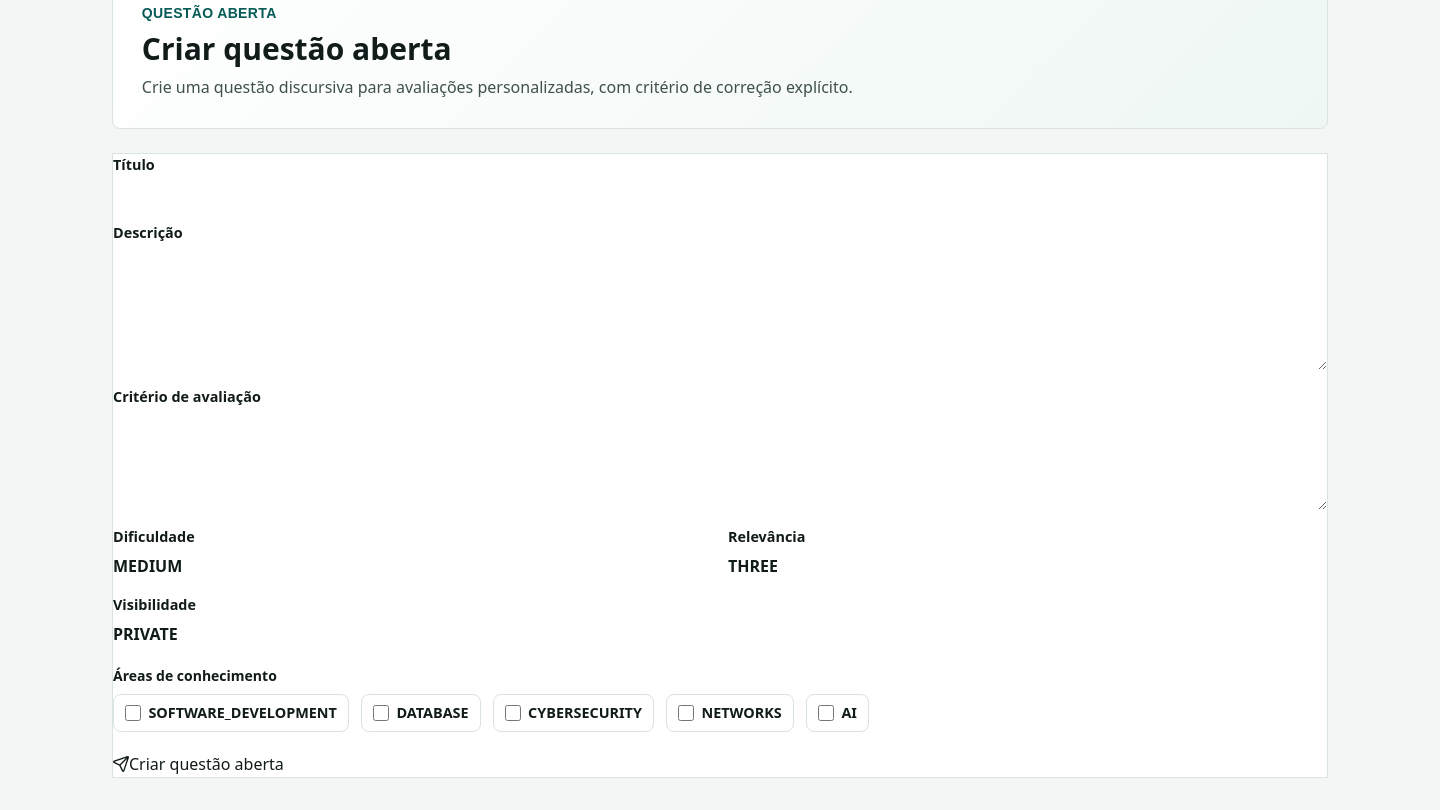
RecruiterOpenQuestionCreateView › validates required open question fields
(page scrolled)
Click the button with test id "create-open-question".
click(198, 764)  # box x1=113 y1=752 x2=284 y2=776
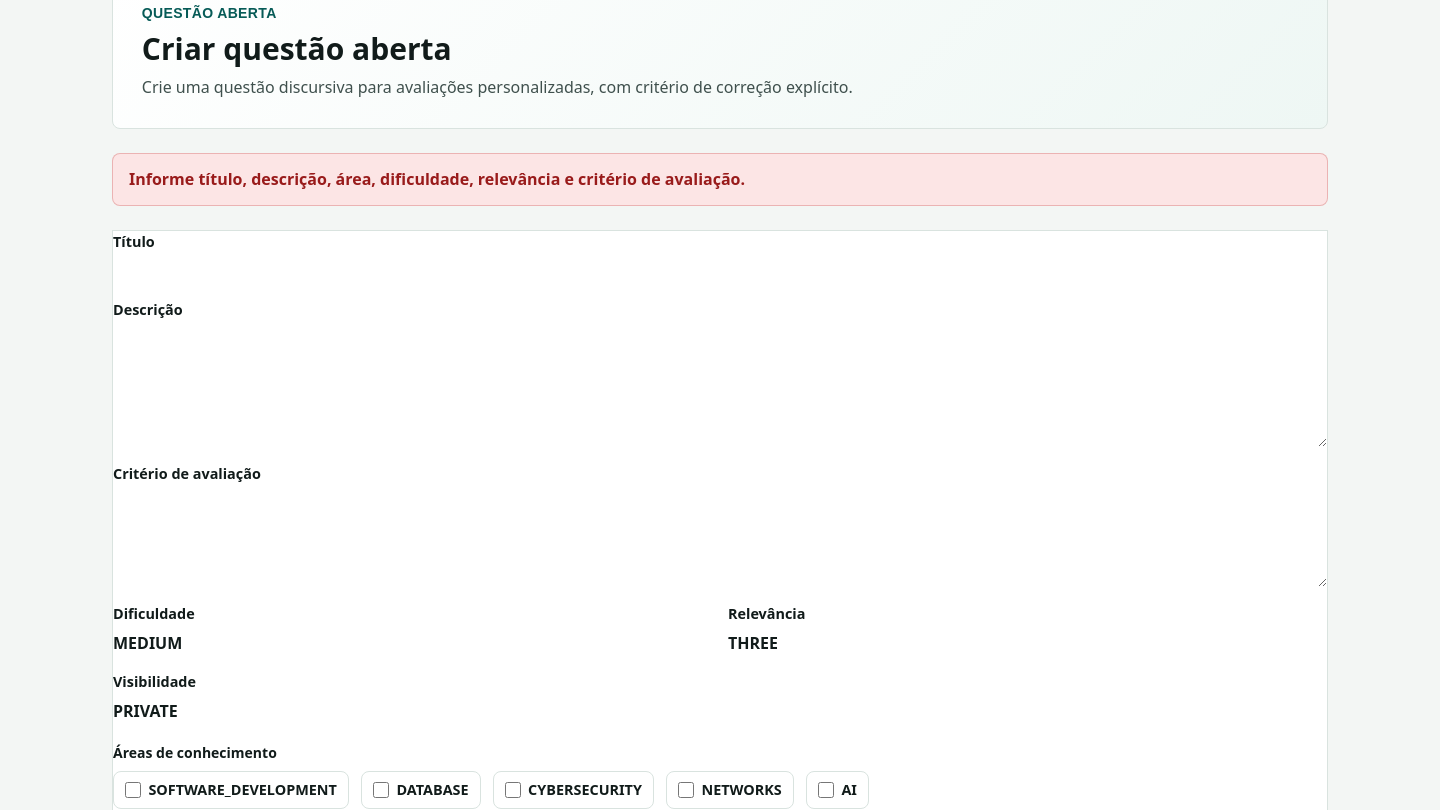
Expected: the text "Informe título, descrição, área, dificuldade, relevância e critério de avaliação." is shown, x1=129 y1=168 x2=745 y2=190
